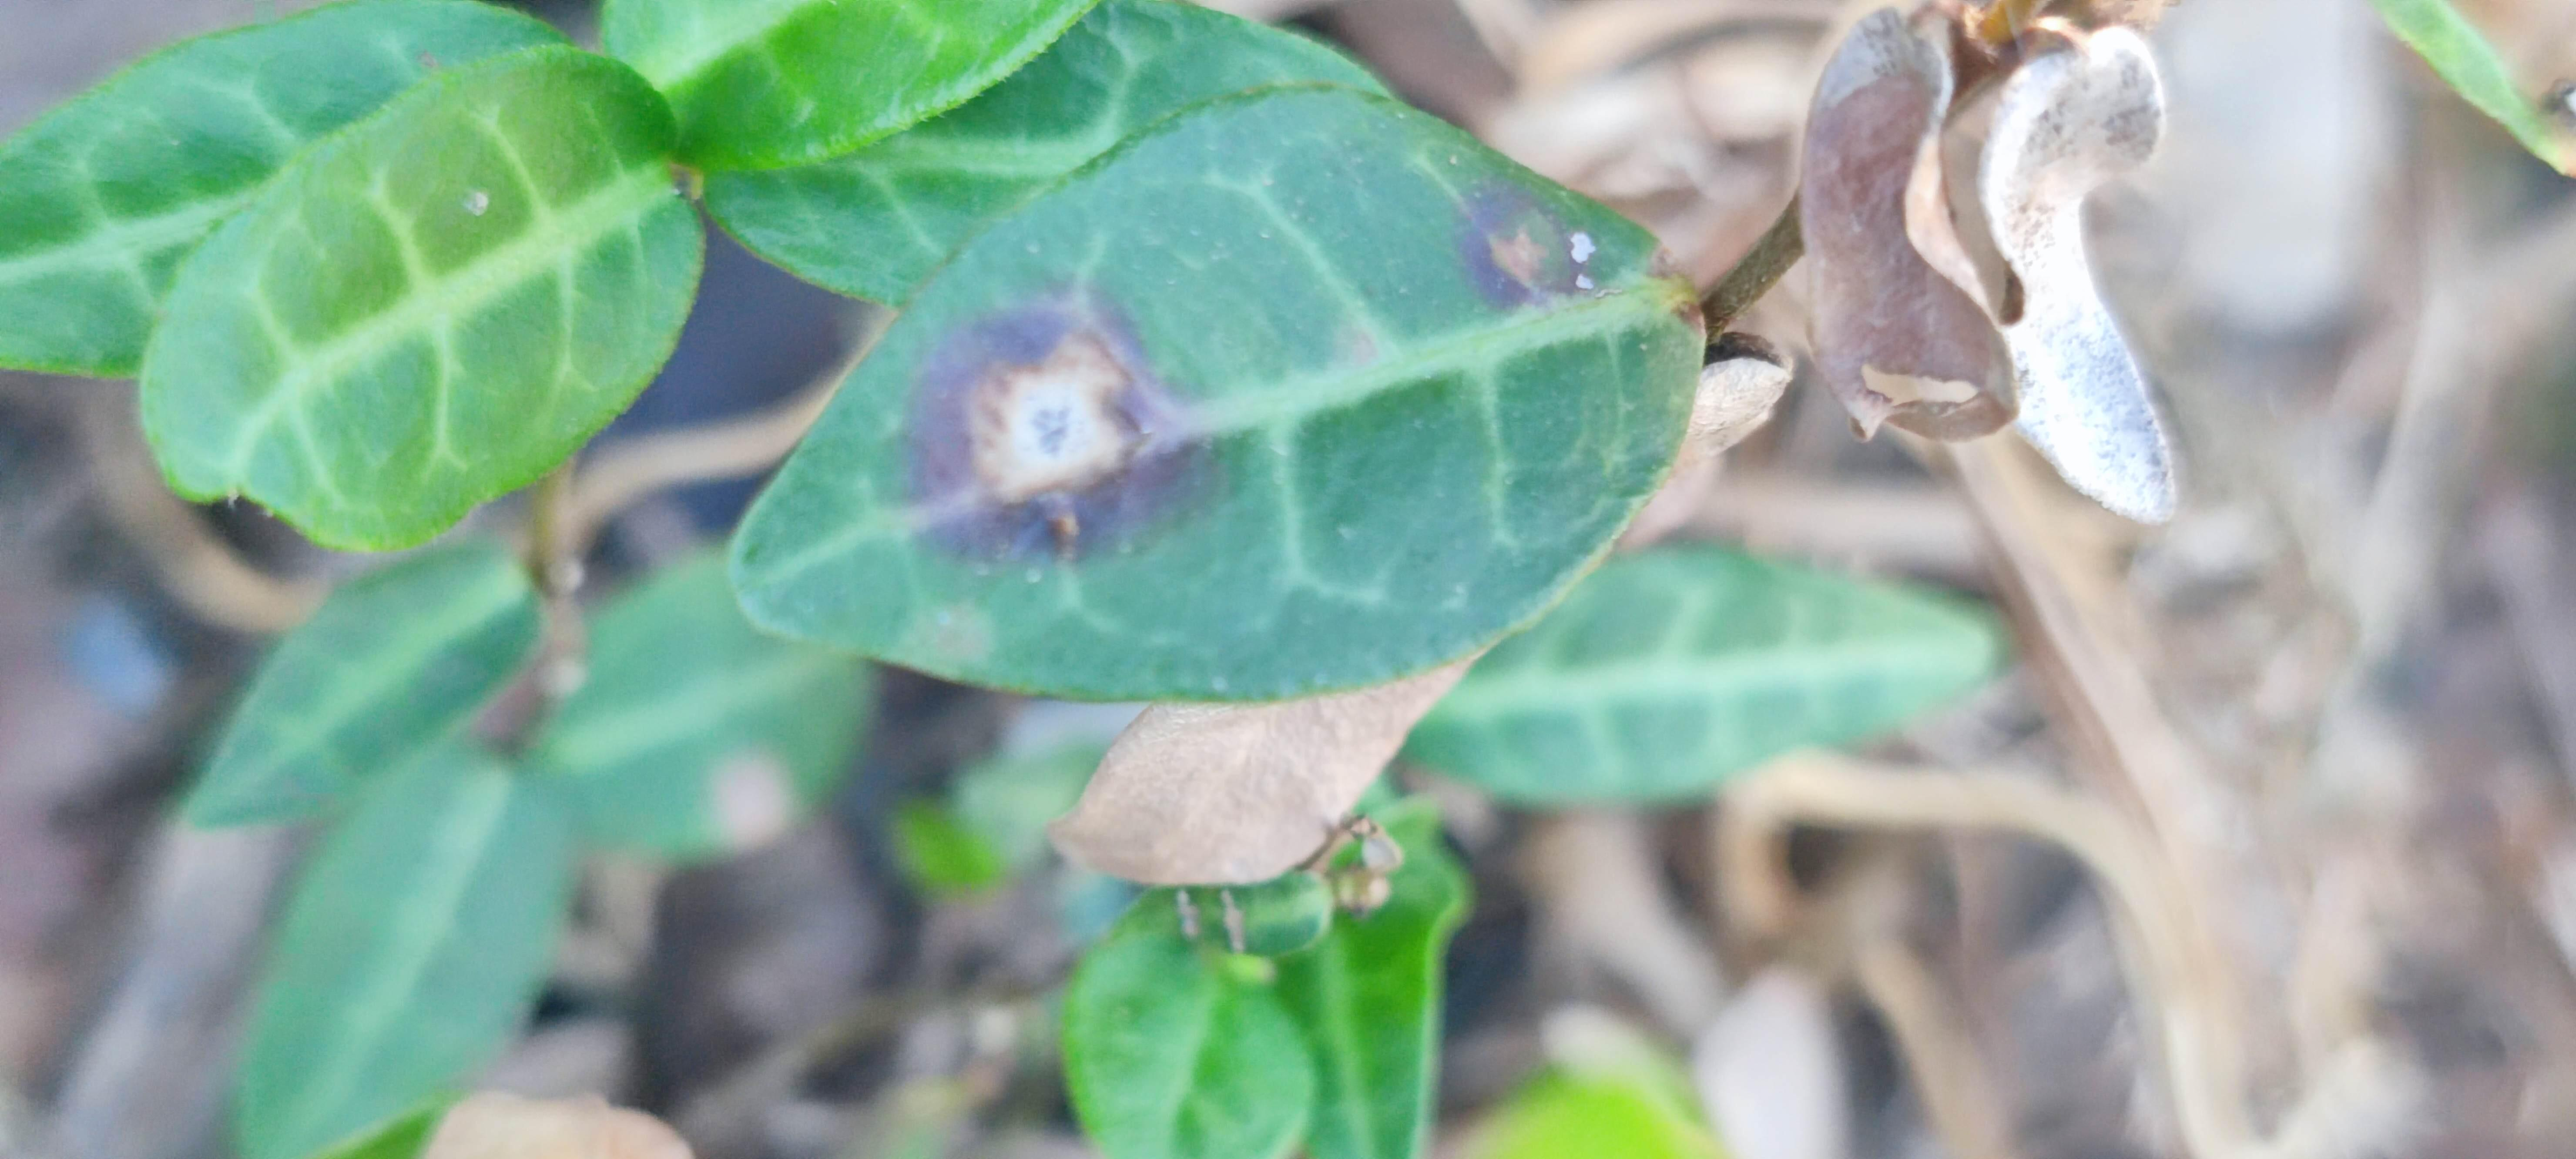tanju_high: (723, 84, 1712, 708)
